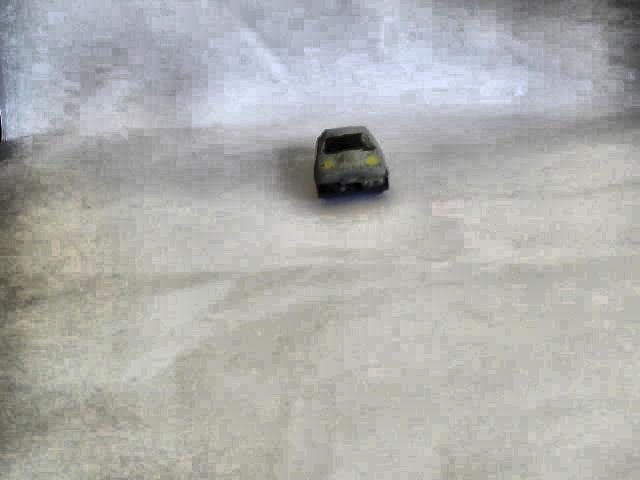normal_car: (308, 124, 391, 203)
